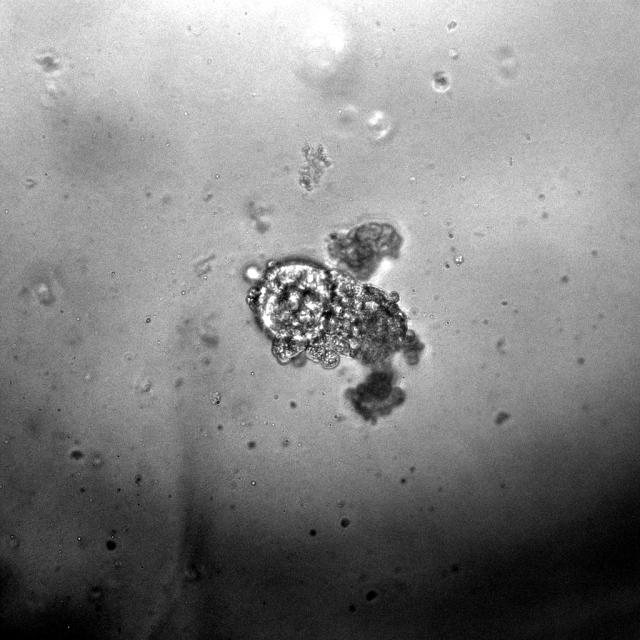organoid: (243, 258, 426, 426), (327, 221, 403, 280), (299, 143, 332, 191)
